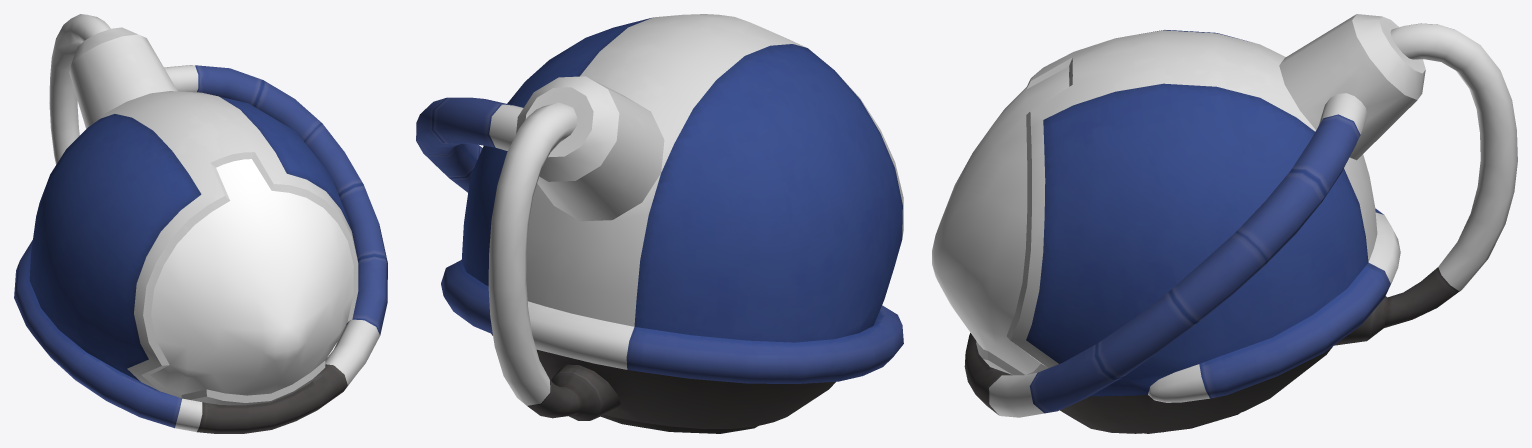
File: p0_hdw1102_00_hdw00.gltf
3 views of the same model, side by side, from view 1: azimuth 30°, elevation 25°; view 2: azimuth 150°, elevation 25°; view 3: azimuth 270°, elevation 25° (orthographic). The views are drawn at different scales.
Parts seen in each view (by area): view 1: hdw00_helmet_mesh_shape:cap, hdw00_shield_mesh_shape:faceshield; view 2: hdw00_helmet_mesh_shape:cap; view 3: hdw00_helmet_mesh_shape:cap, hdw00_shield_mesh_shape:faceshield.
Boxes of the visible parts, x1,y1,x2,y2 form: hdw00_helmet_mesh_shape:cap: (14, 14, 387, 433); hdw00_shield_mesh_shape:faceshield: (150, 159, 353, 395); hdw00_helmet_mesh_shape:cap: (416, 14, 903, 433); hdw00_helmet_mesh_shape:cap: (964, 14, 1517, 433); hdw00_shield_mesh_shape:faceshield: (932, 66, 1069, 374).
Size of what is drawn, in the model's own units: 0.3674 by 0.3368 by 0.4577.
Materials: 3 (1 with a texture image).
